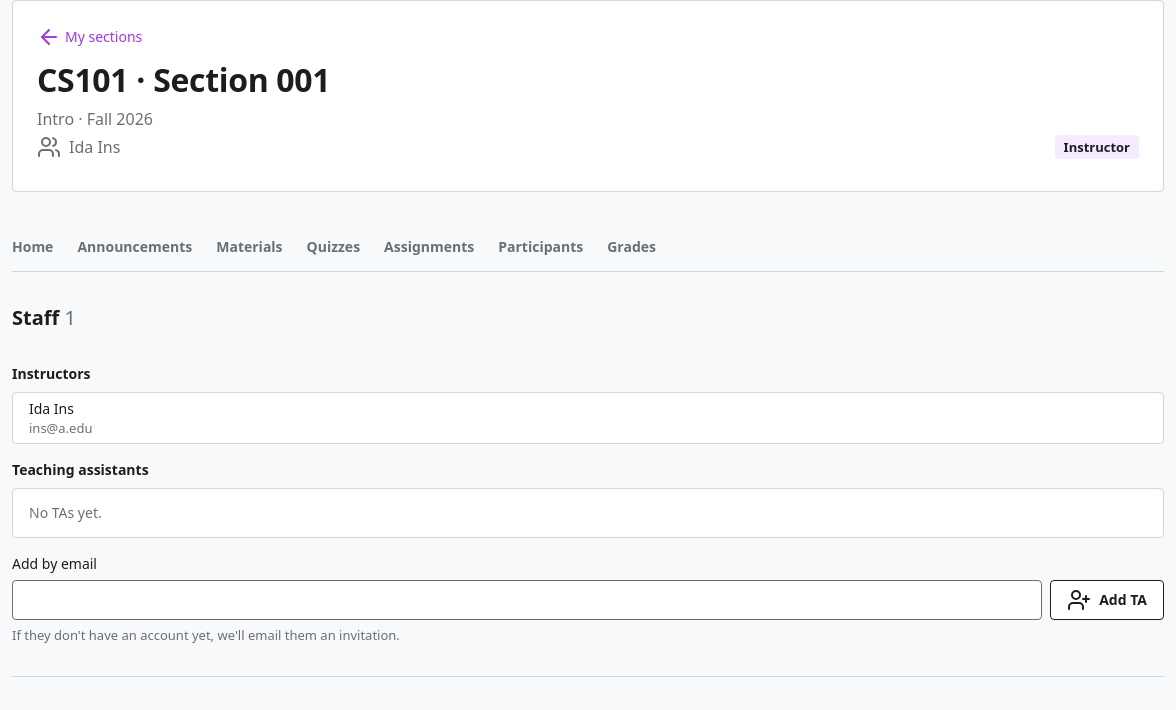
Test: explains a 409 and focuses the email input
The width and height of the screenshot is (1176, 710).
In the field labelled "Add by email": (527, 600) [12, 580, 1042, 620], type "dup@a.edu"
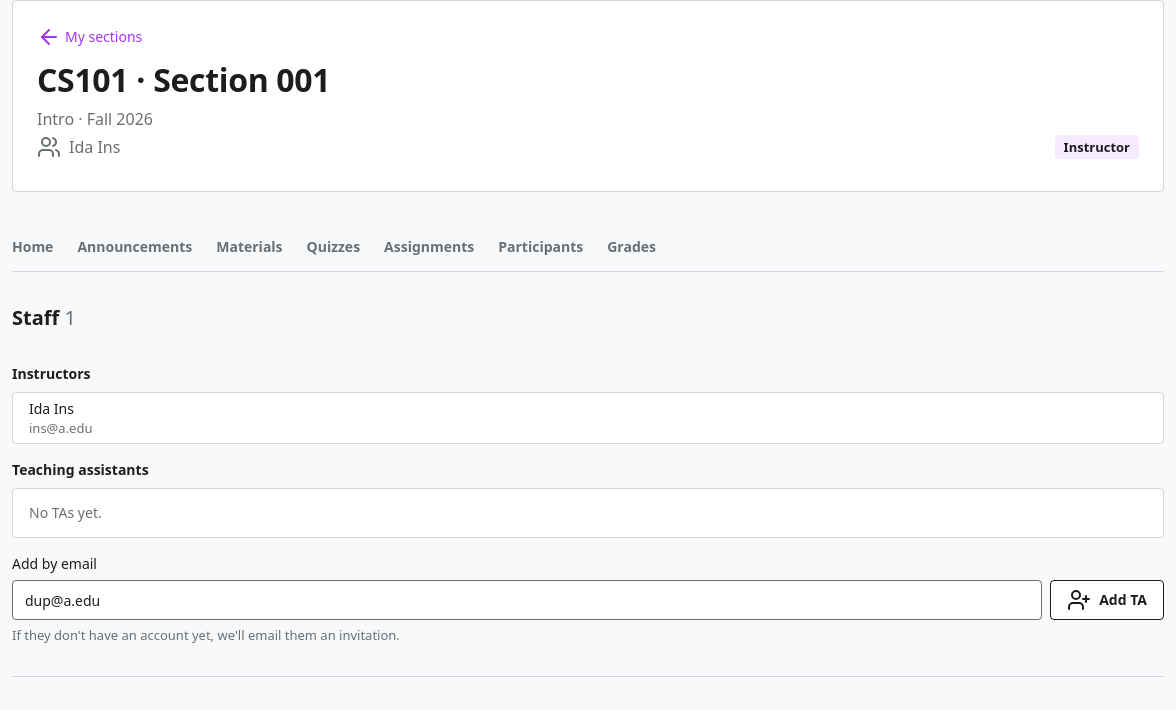
Click the button "Add TA": (1107, 600) [1050, 580, 1164, 620]
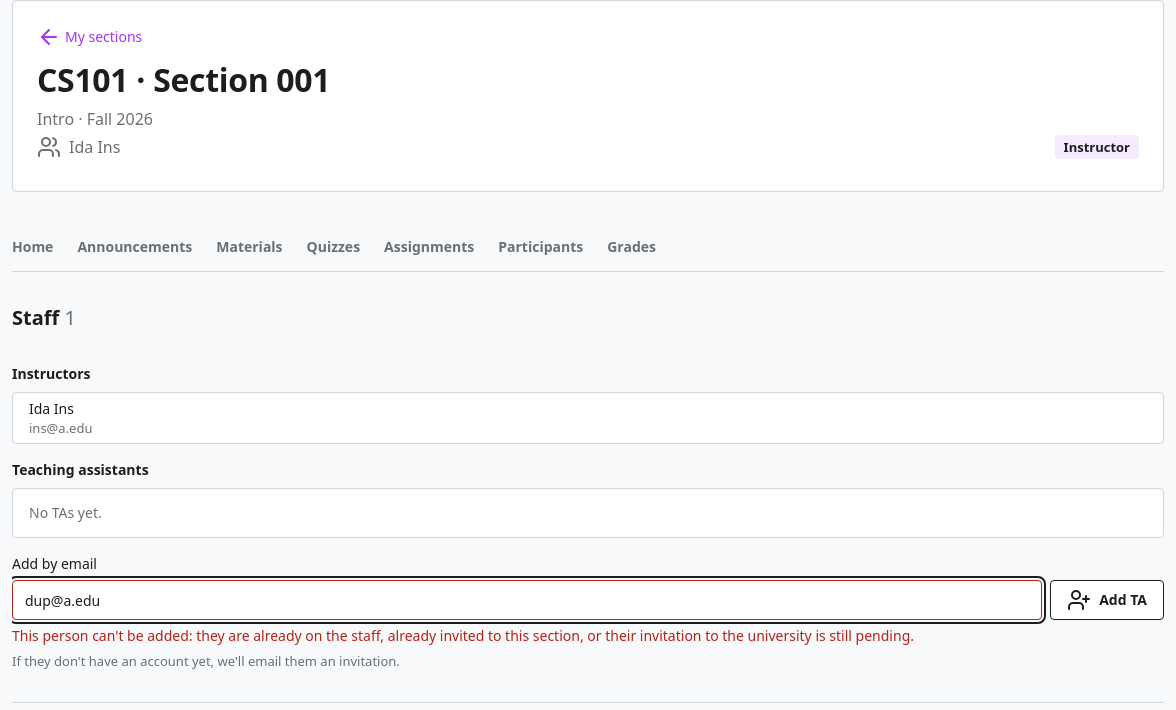
Check: the text "can't be added" is shown, box [12, 626, 914, 645]
